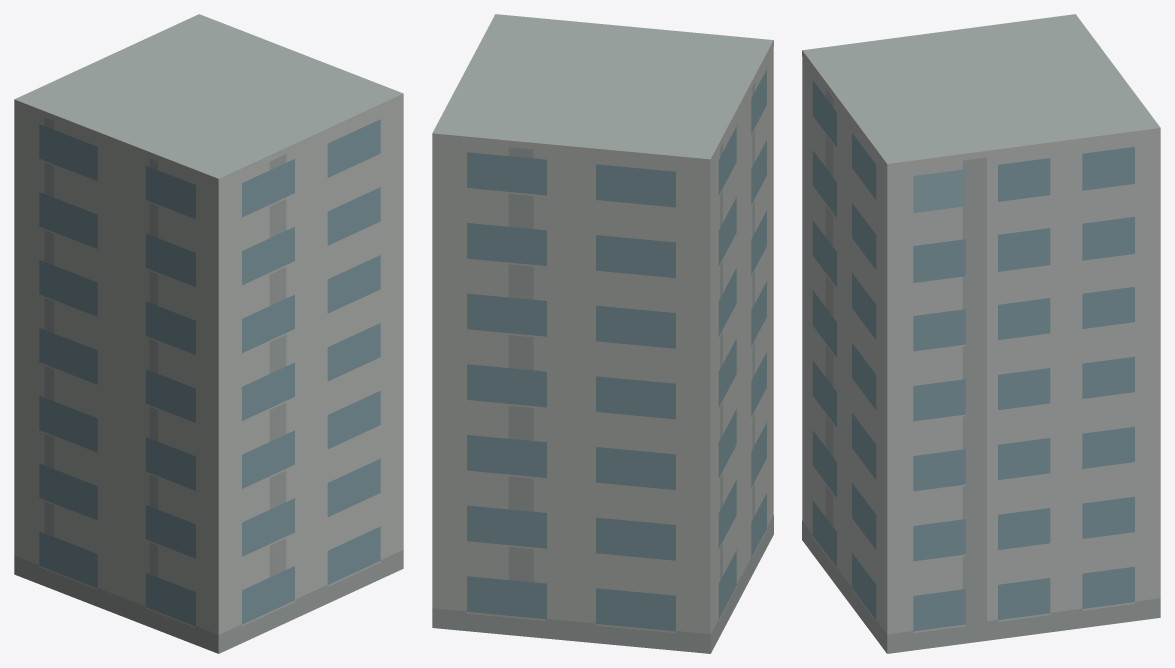
The model's file is survey-upis-32567617.glb.
3 views of the same model, side by side, from view 1: azimuth 30°, elevation 25°; view 2: azimuth 150°, elevation 25°; view 3: azimuth 270°, elevation 25° (orthographic). The views are drawn at different scales.
Visible parts, largest first — view 1: survey-upis-32567617.tmp; view 2: survey-upis-32567617.tmp; view 3: survey-upis-32567617.tmp.
Part boxes in pixels (x1,y1,x2,y2): survey-upis-32567617.tmp: (14, 14, 403, 653); survey-upis-32567617.tmp: (432, 14, 773, 653); survey-upis-32567617.tmp: (802, 14, 1160, 653).
Size of the model in its own units: 12.03 by 18.3 by 12.15.
